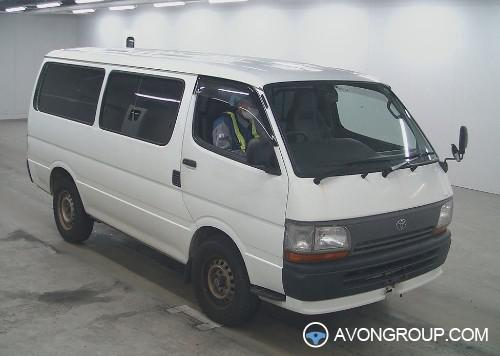van: (33, 36, 465, 311)
